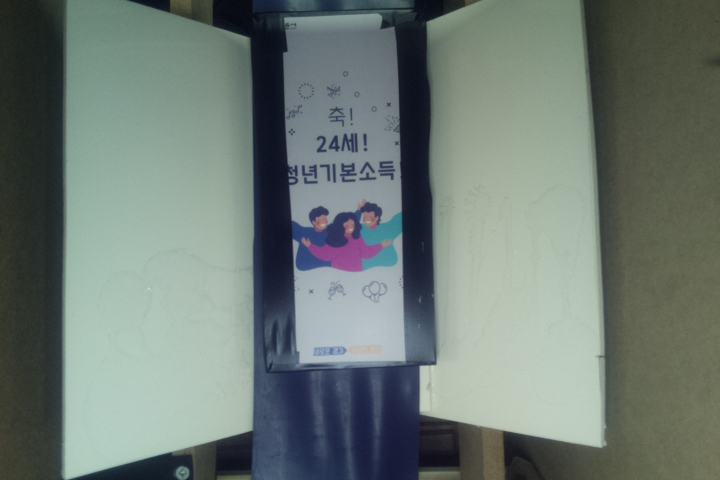book: (250, 8, 438, 383)
